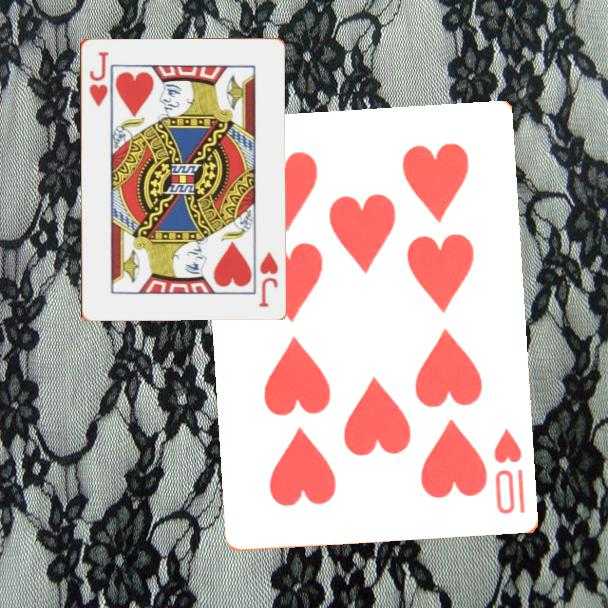h10: (490, 426, 528, 517)
h11: (255, 248, 280, 310), (86, 48, 111, 109)
